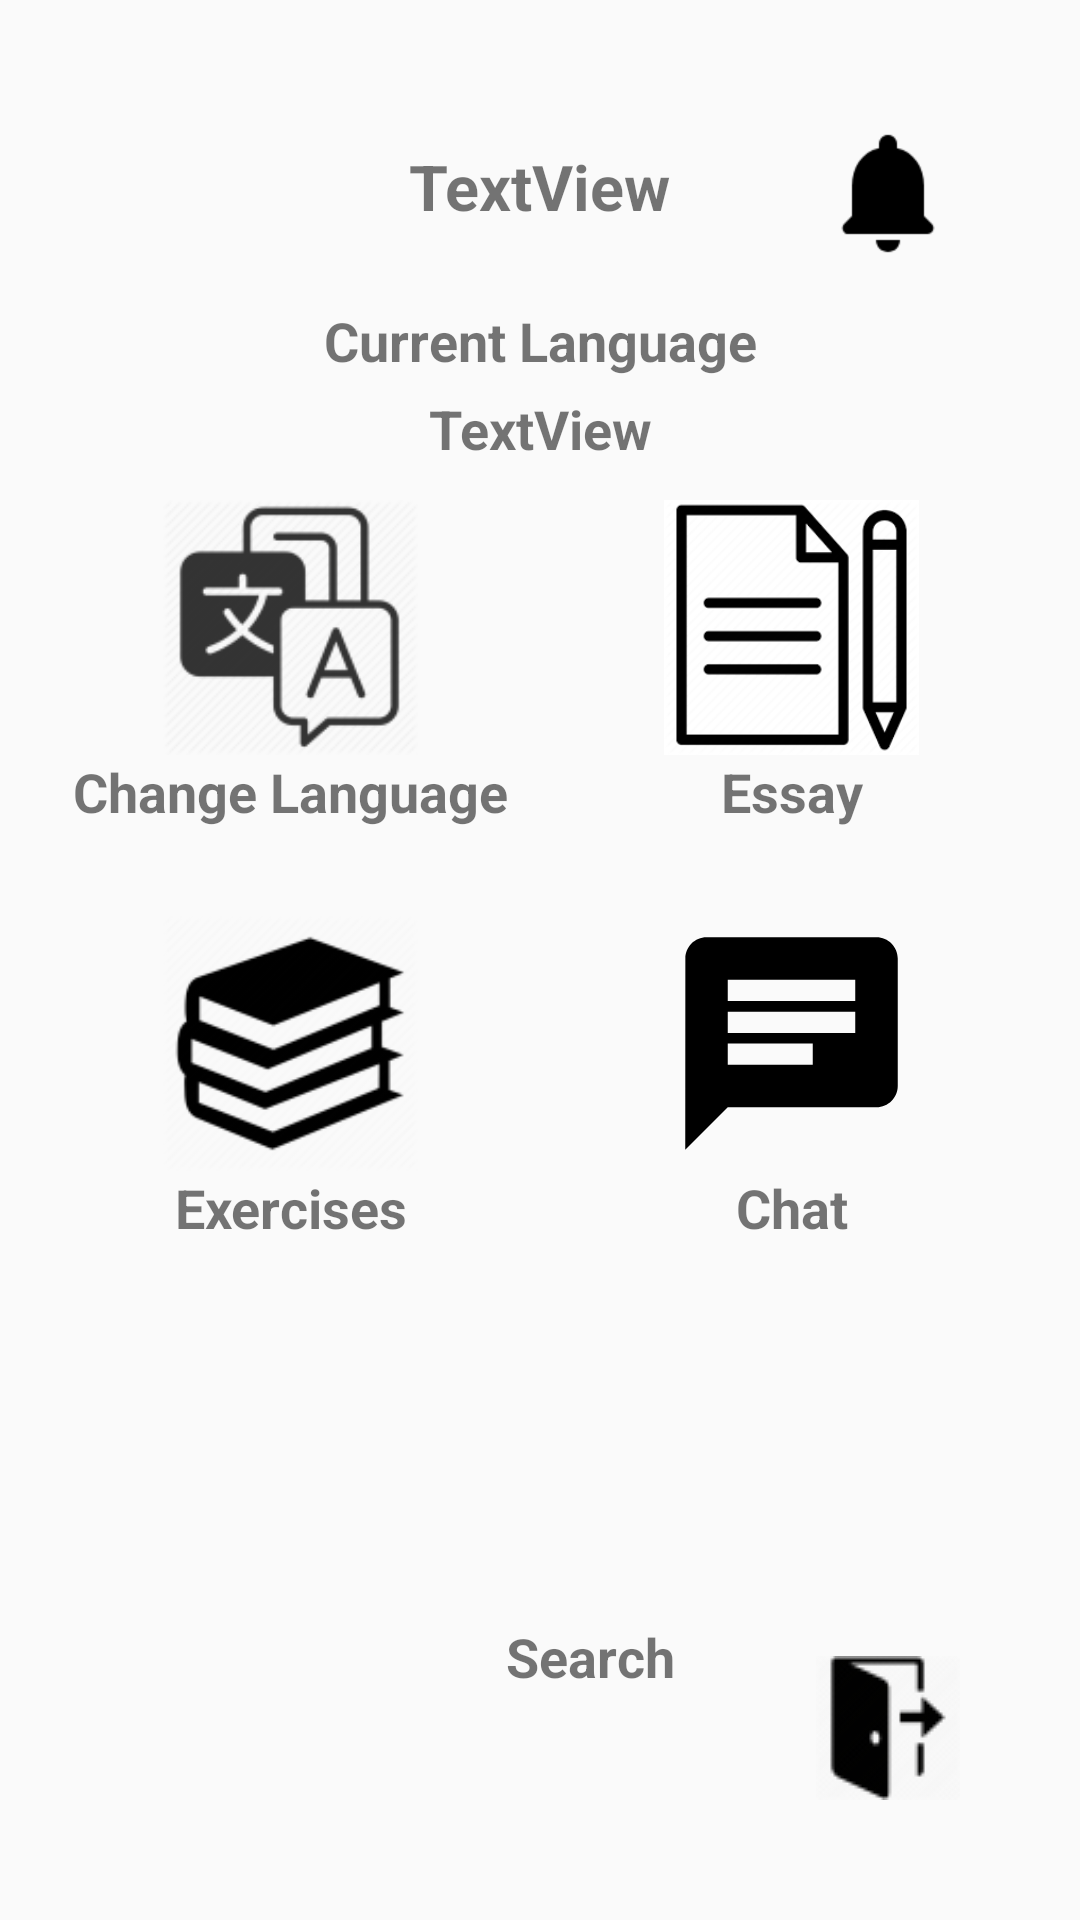

Screen size 1080x1920. Icon name, then its box in pixels as bbox=[x1, y1, x2, y2]:
notification: bbox=[841, 134, 935, 253]
